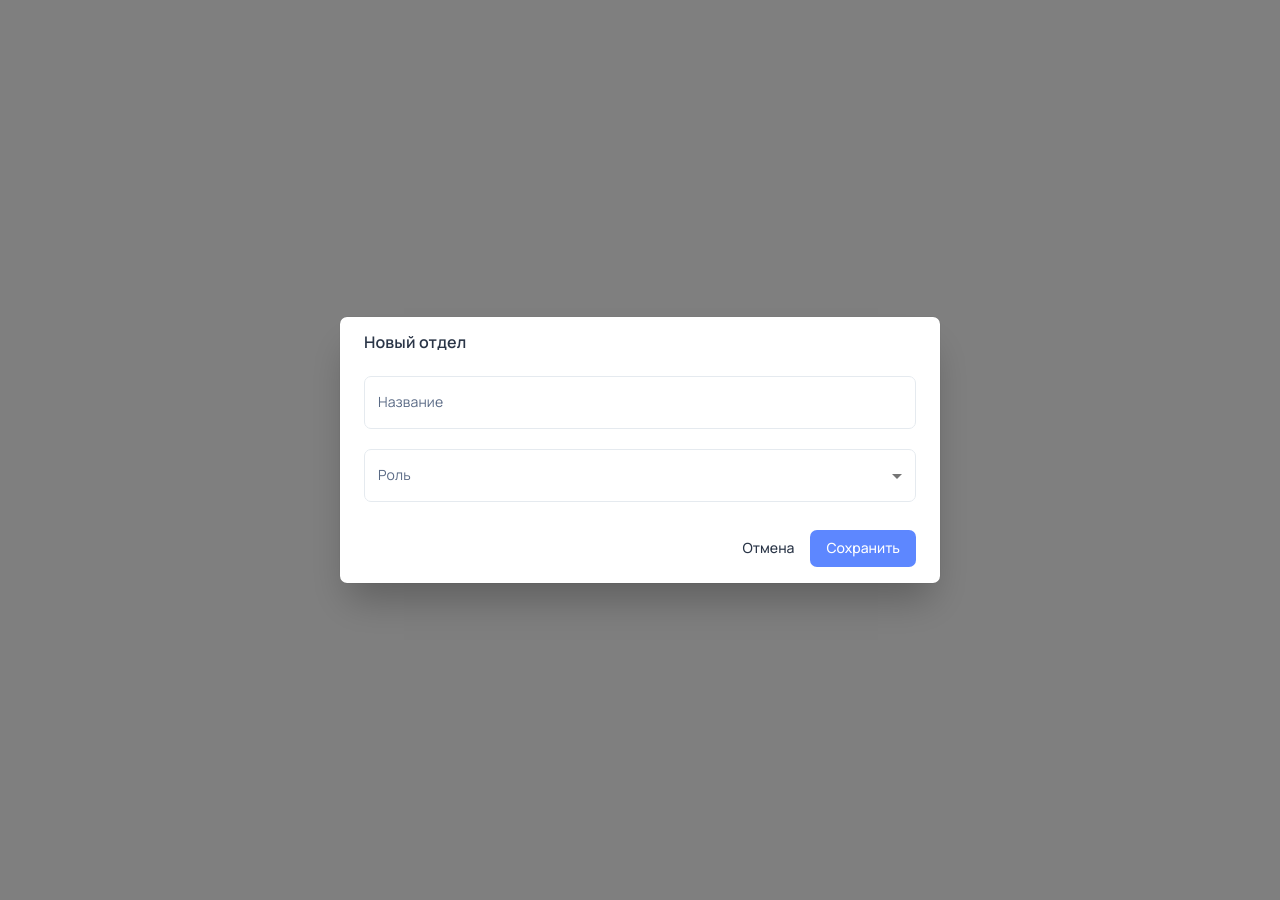
it: FormDialog показывает ошибку backend под полем и сообщение над формой
The image size is (1280, 900).
Type "ИТ" into the field labelled "Название". click: (640, 403)
box: left=364, top=376, right=916, bottom=429
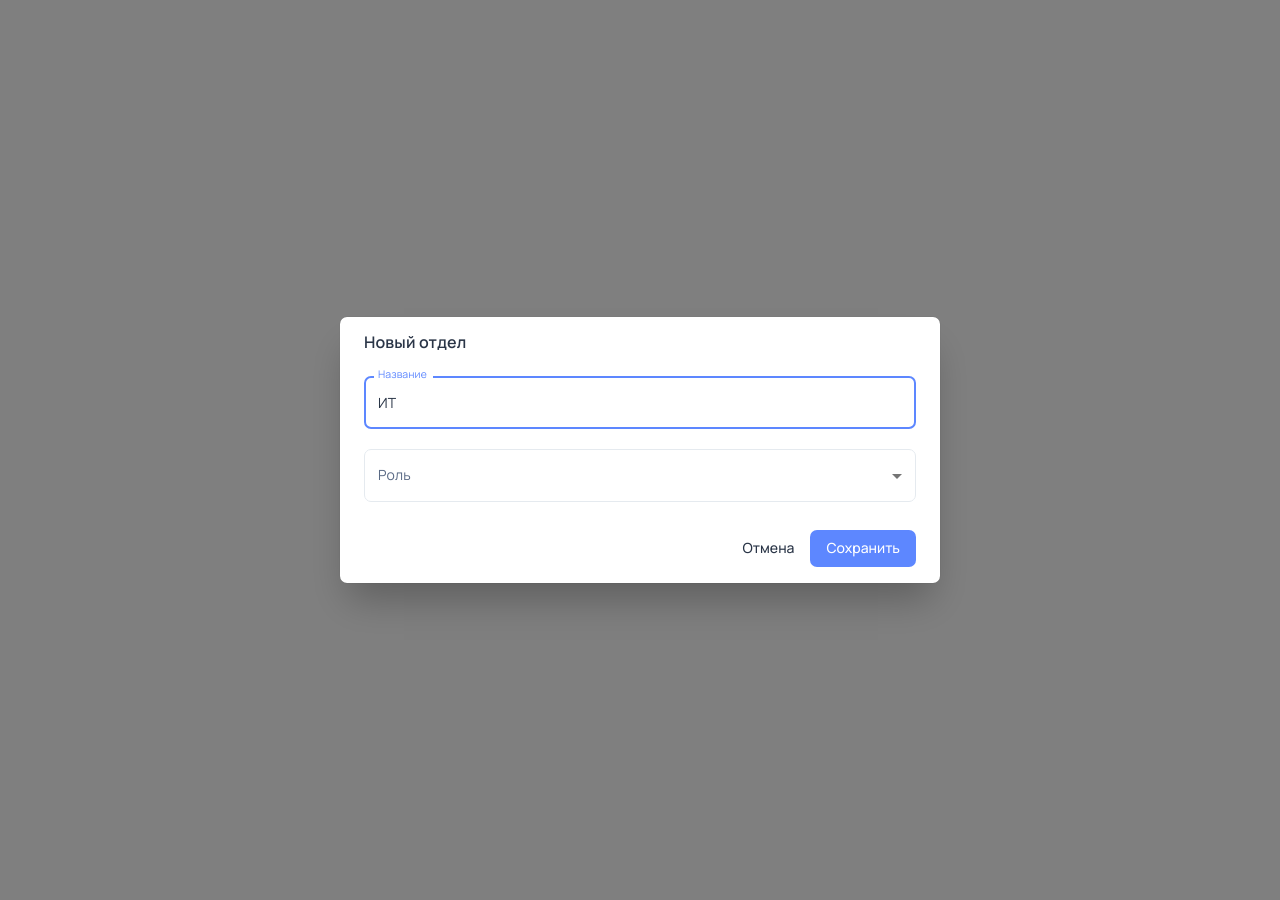
Click the dropdown named "Роль". click: (640, 476)
box: left=364, top=449, right=916, bottom=502
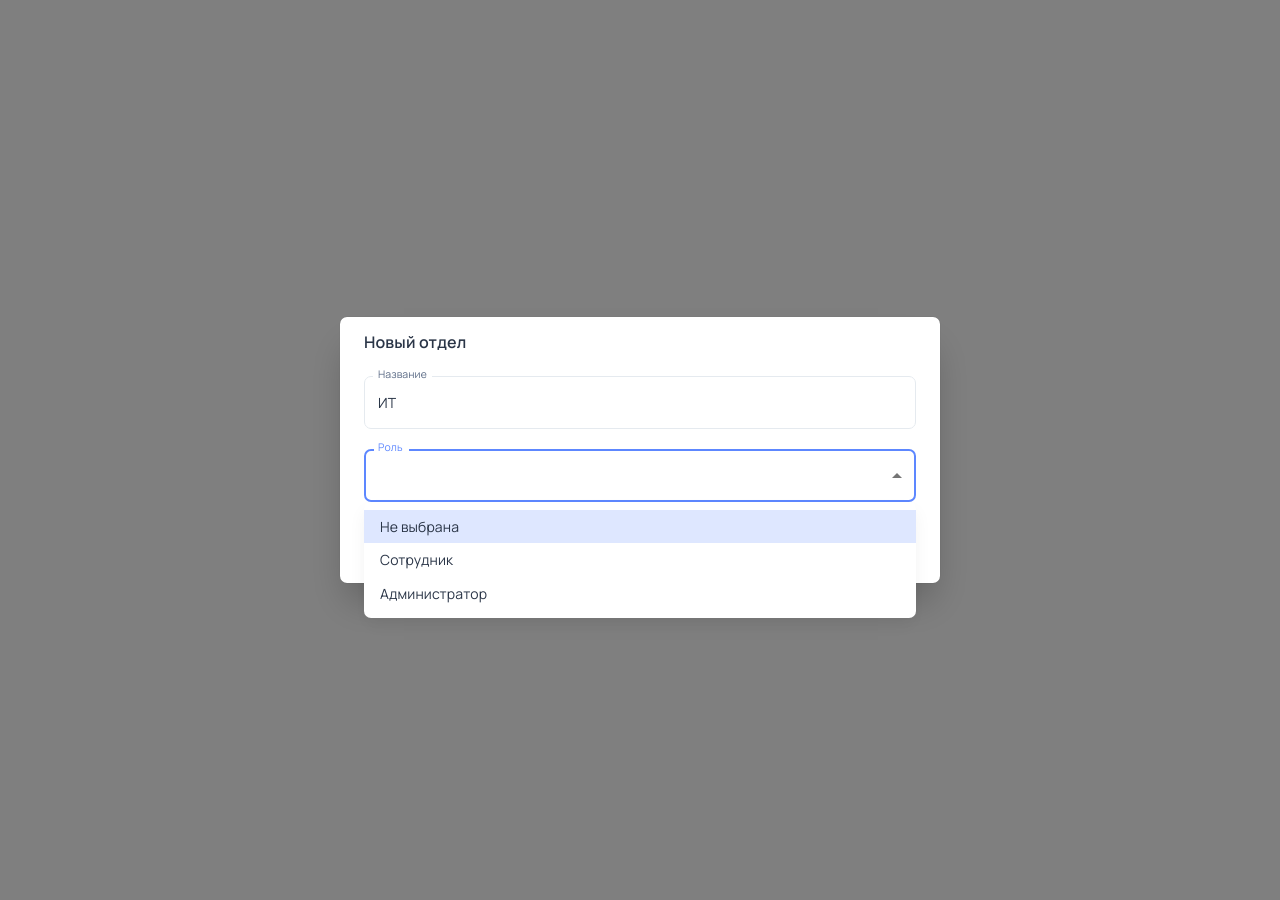
Click the option "Администратор". click: (434, 593)
box: left=380, top=584, right=487, bottom=603
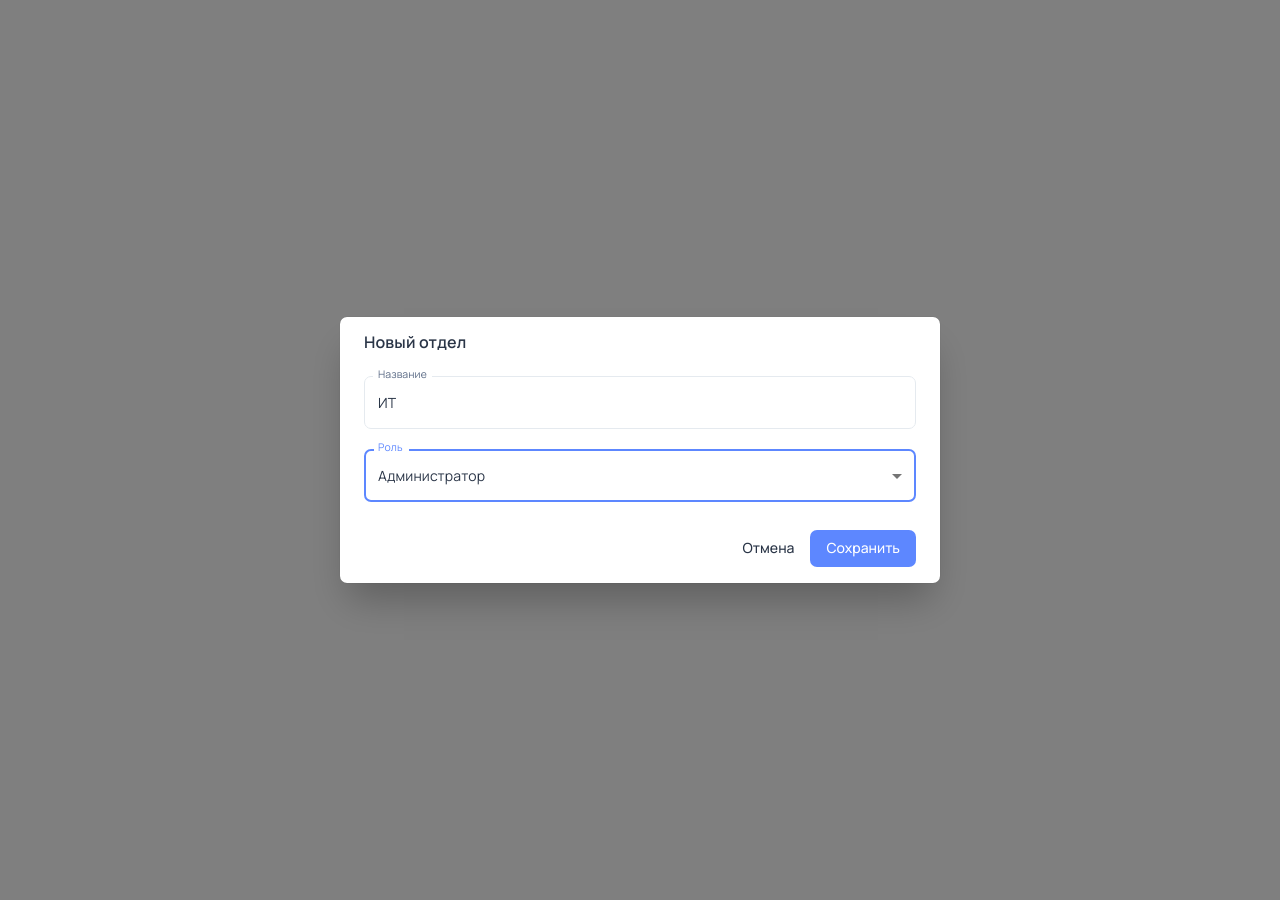
Click the button "Сохранить". click: (863, 549)
box: left=810, top=530, right=916, bottom=567
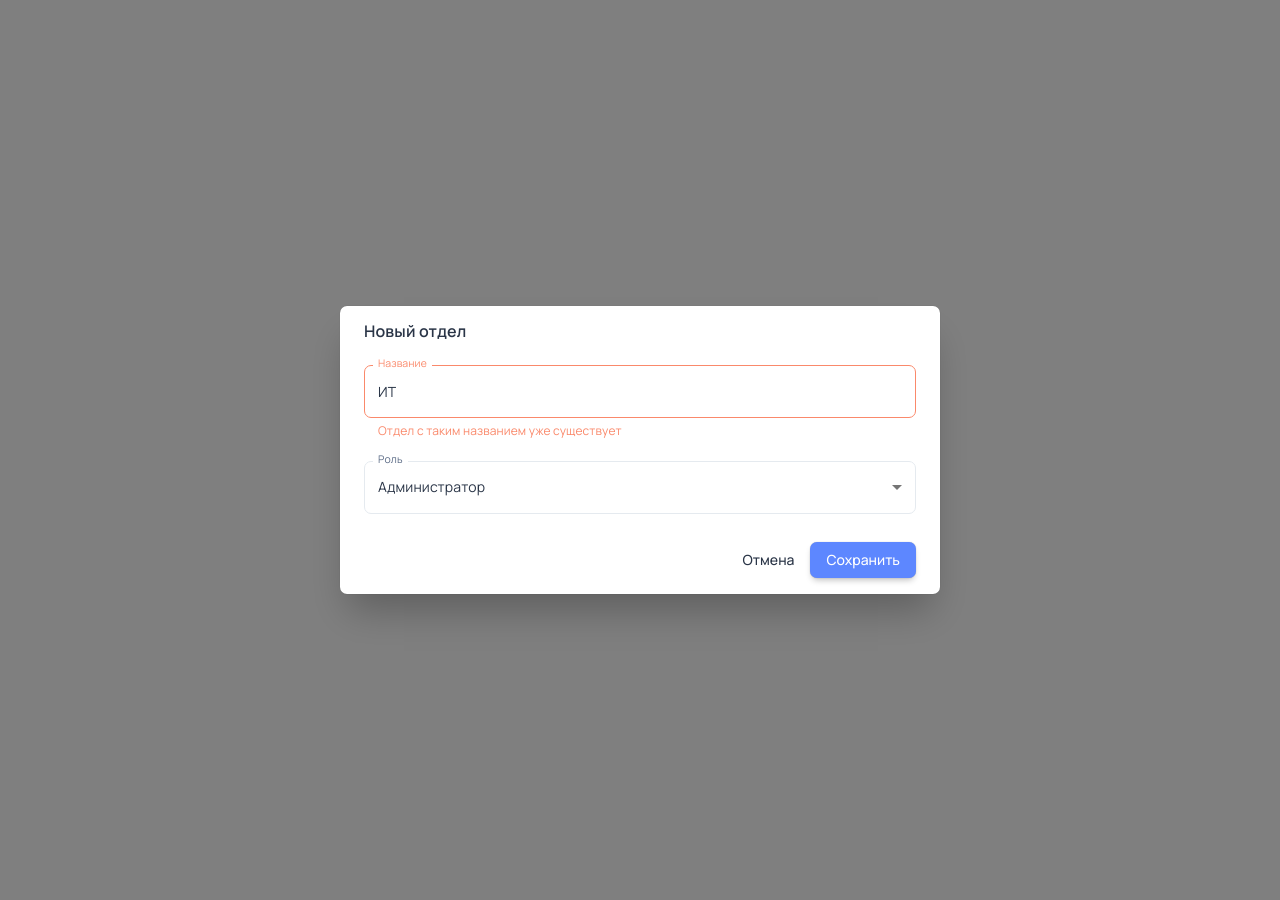
Expected: the text "Отдел с таким названием уже существует" is shown, left=378, top=422, right=622, bottom=439
Click the button "Сохранить". click: (863, 560)
box: left=810, top=542, right=916, bottom=578
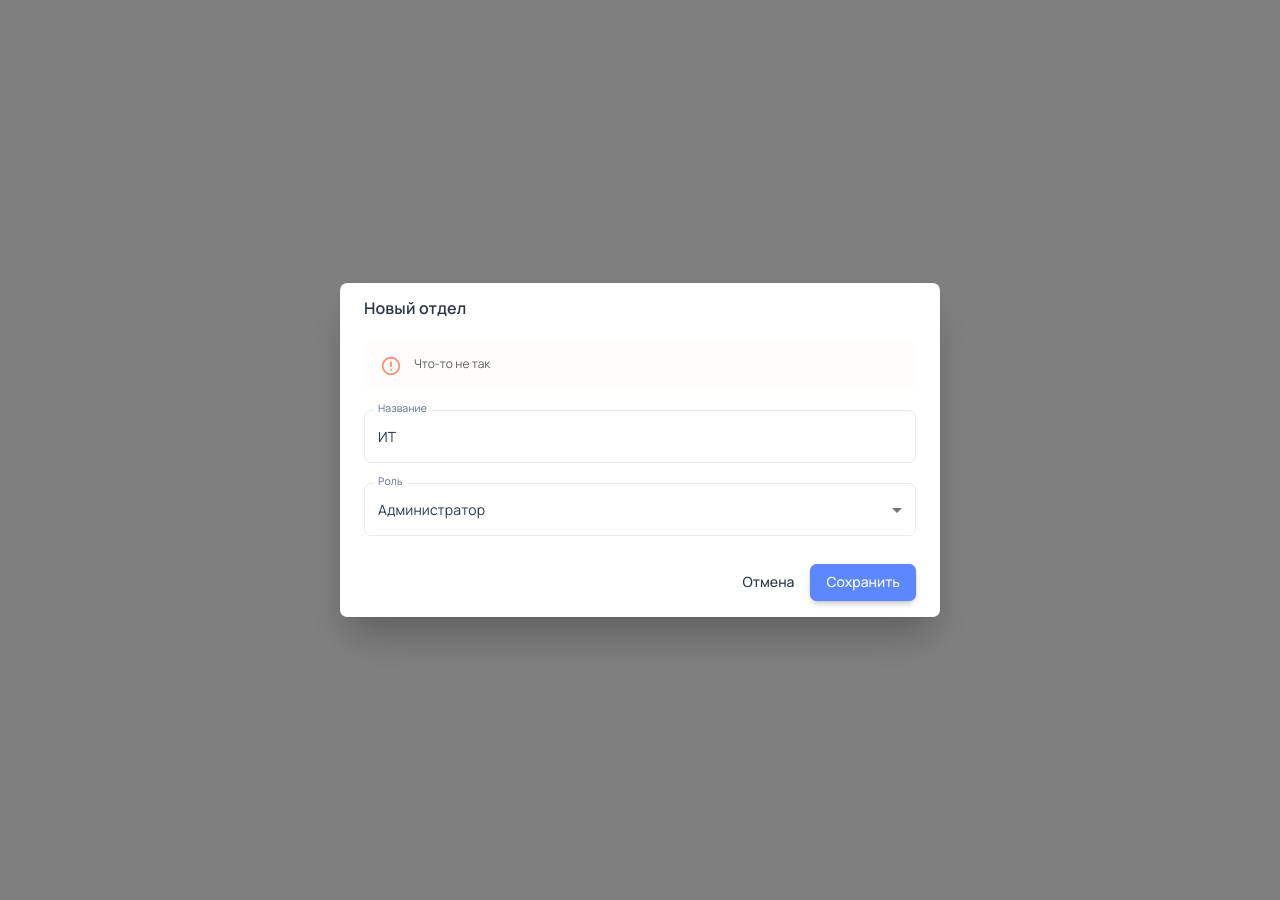
Expected: the message reads "Что-то не так", left=414, top=355, right=490, bottom=372
